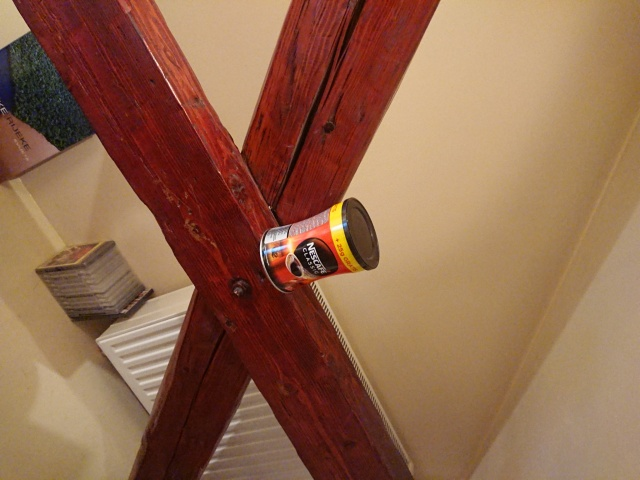Nescafe Classic 225g: (256, 195, 383, 297)
